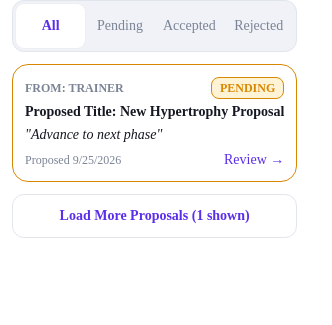
Test: GoalProposalsTab › supports load more pagination, retains existing proposals on error, and allows retry
Expected: the button with test id "proposal-item-prop-pending-1" is shown, [12,64,297,182]
What coordinates should you click on to do the following:
click the button with test id "load-more-proposals-button"
I would click on:
 (155, 216)
Its box is [12,194,297,238].
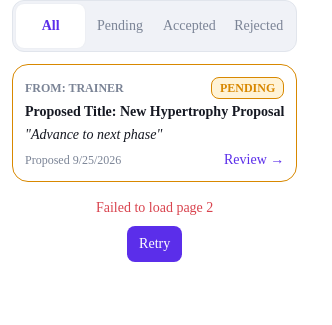
Expected: the button with test id "proposal-item-prop-pending-1" is shown, [12,64,297,182]
Expected: the button with test id "retry-load-more-proposals-button" is shown
What coordinates should you click on to do the following:
click the button with test id "retry-load-more-proposals-button"
I would click on:
 (155, 244)
Its box is [127,226,182,262].
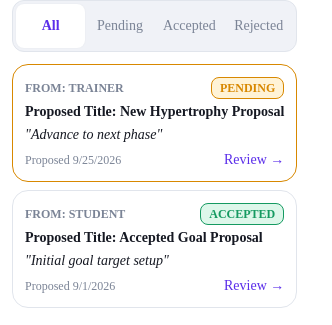
Expected: the button with test id "proposal-item-prop-pending-1" is shown, [12,64,297,182]
Expected: the button with test id "proposal-item-prop-accepted-2" is shown, [12,190,297,308]
